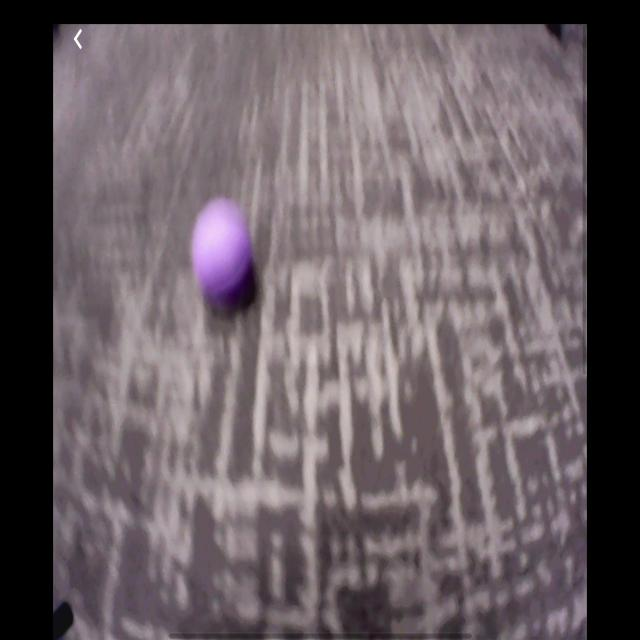ball: (194, 204, 250, 303)
